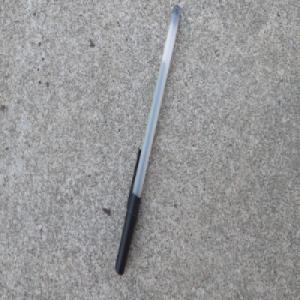Pen: (112, 5, 181, 277)
